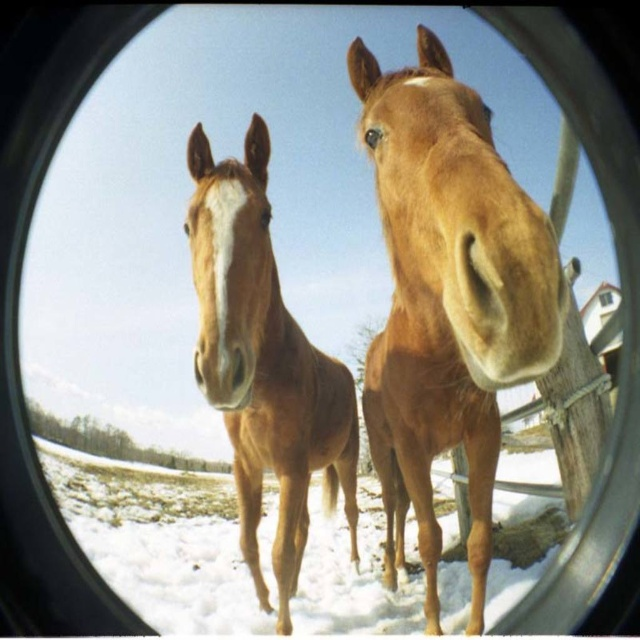Horse: (342, 26, 572, 639), (183, 110, 362, 634)
